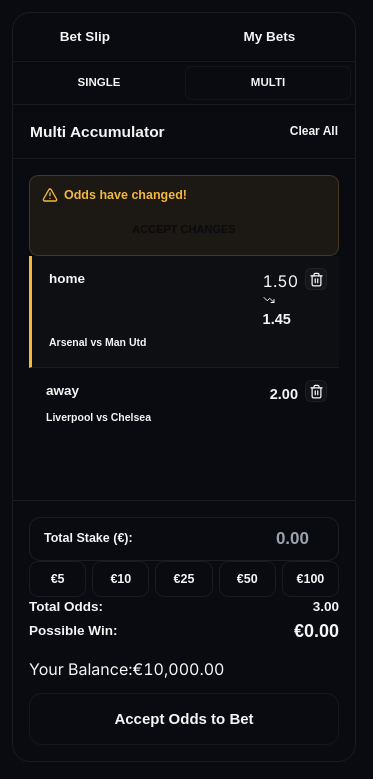
Scenario: RightSidebar (component tests) › shows Multi mode by default and calculates total odds + potential return
This screenshot has width=373, height=779.
Expected: the heading "Multi Accumulator" is shown, top-left (30, 120), bottom-right (165, 143)
# Enter stake
In the number field with placeholder "0.00": [279, 539] box top-left (234, 526), bottom-right (324, 551), type "10"
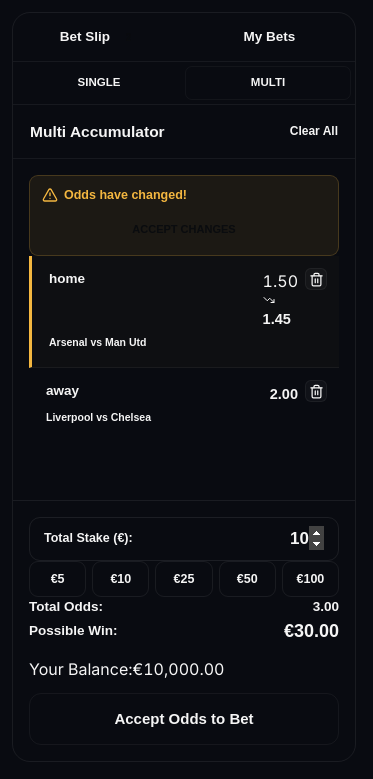
Expected: the text "3.00" is shown, top-left (313, 597), bottom-right (339, 618)
Expected: the text "€30.00" is shown, top-left (284, 618), bottom-right (339, 644)
